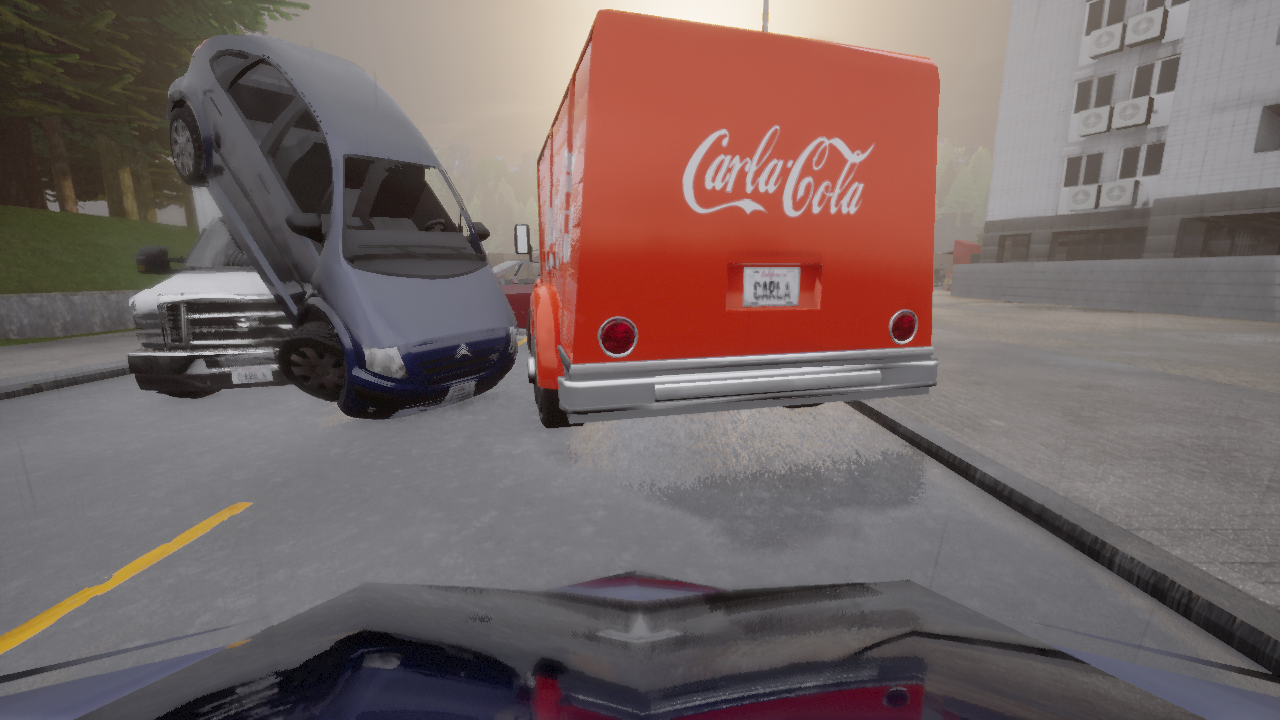cyclist: (0, 569, 1279, 719), (514, 10, 940, 428), (165, 36, 516, 418), (124, 186, 305, 397), (491, 255, 540, 335), (532, 248, 539, 254)
pedestrian: (935, 263, 945, 288), (933, 265, 936, 285)
